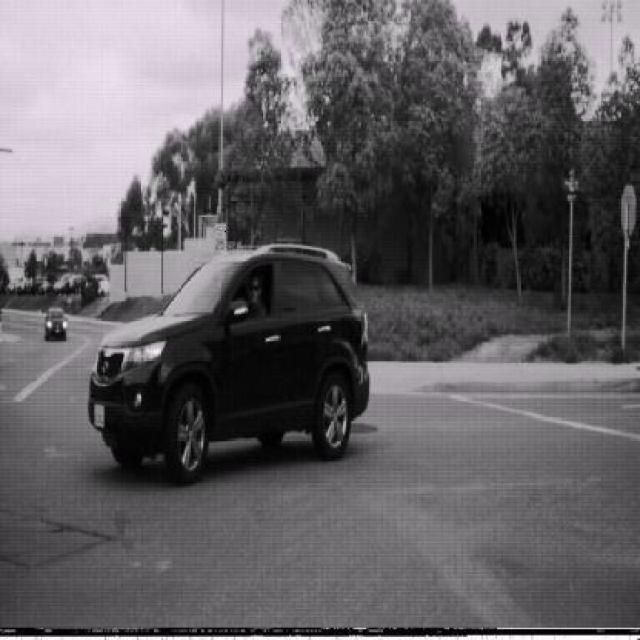speedLimit25: (212, 222, 228, 256)
